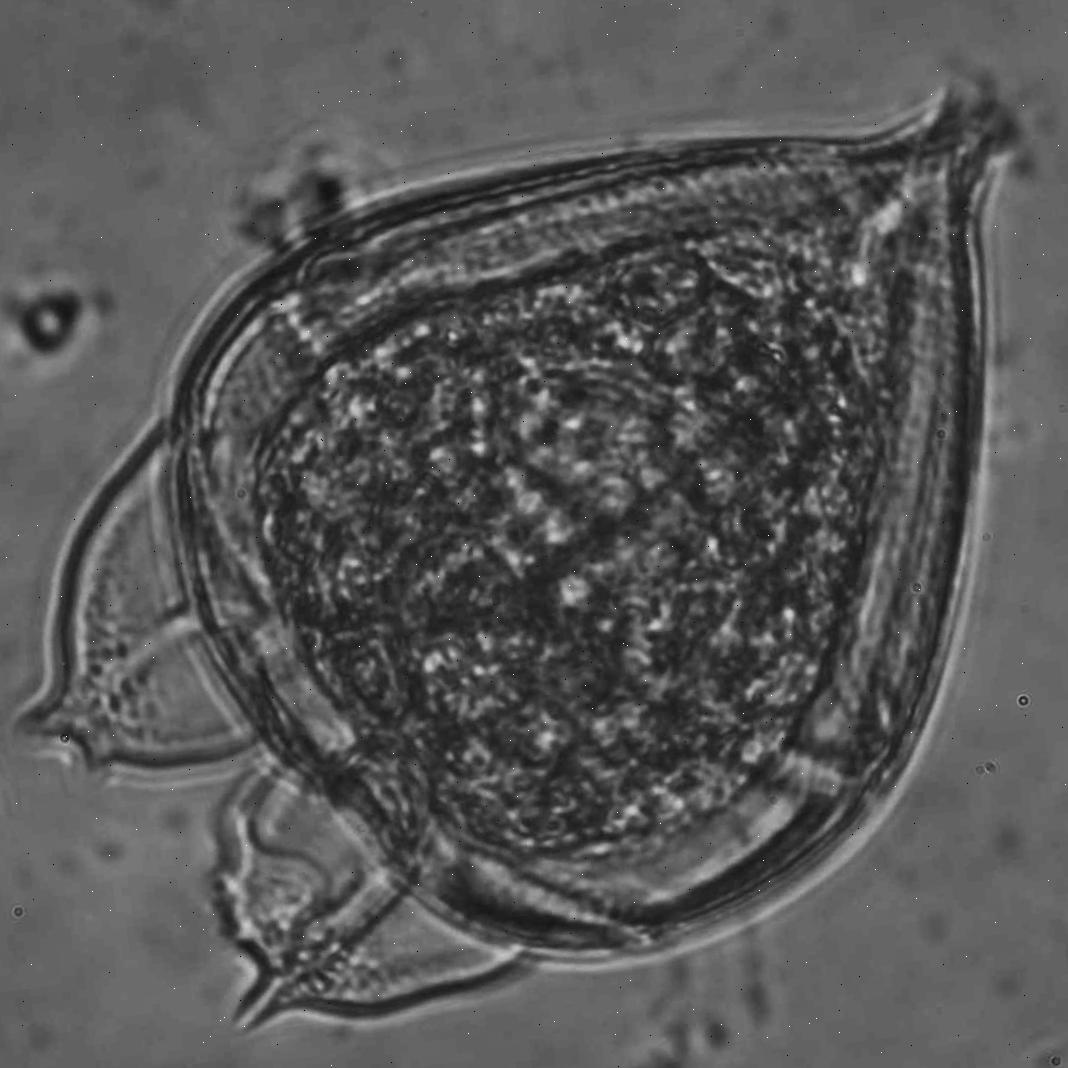podolampas_bipes: (20, 84, 998, 1032)
